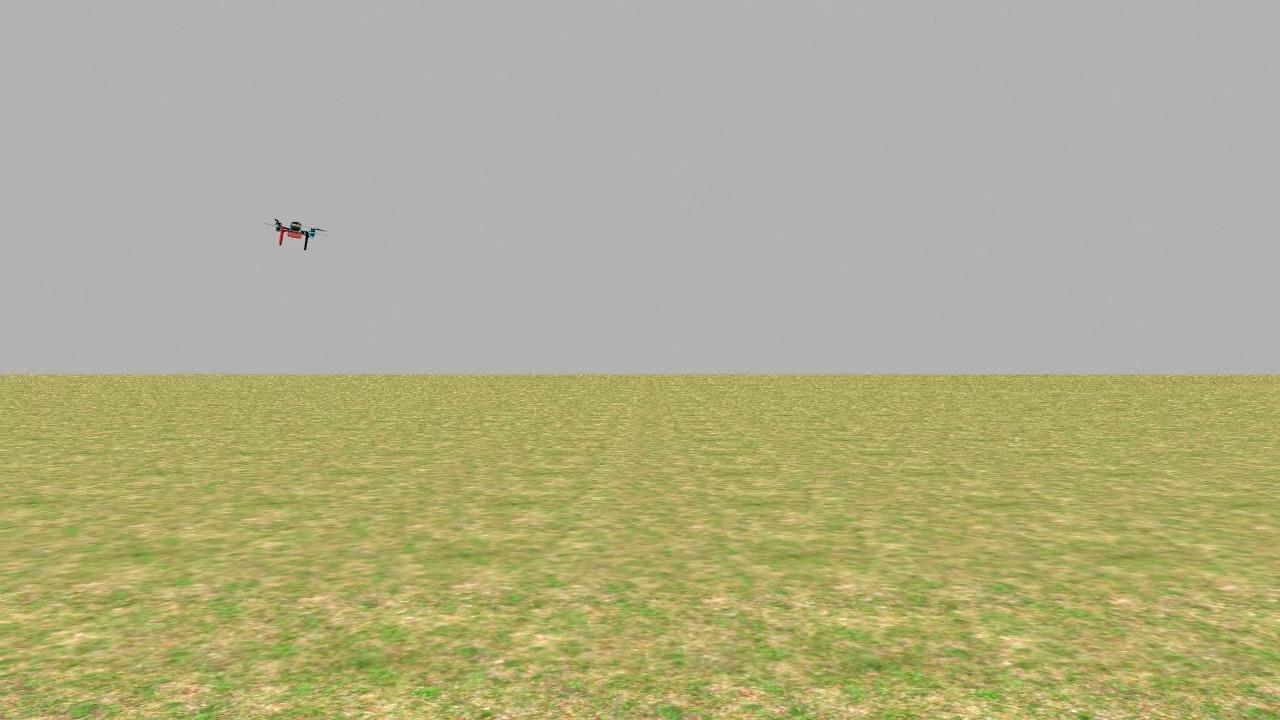UAV: (243, 209, 319, 259)
